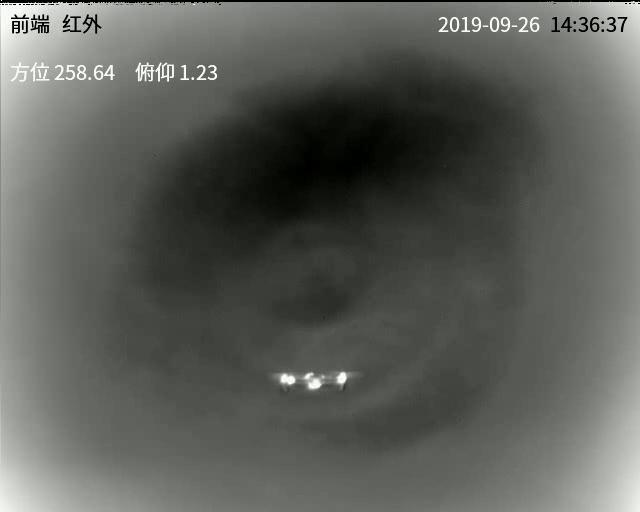DRONE: (278, 370, 351, 395)
